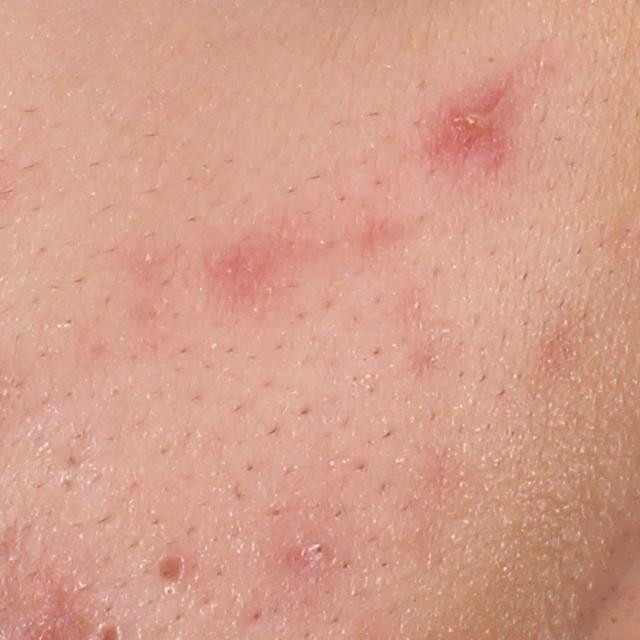comedo: (153, 548, 193, 585), (302, 538, 330, 563)
